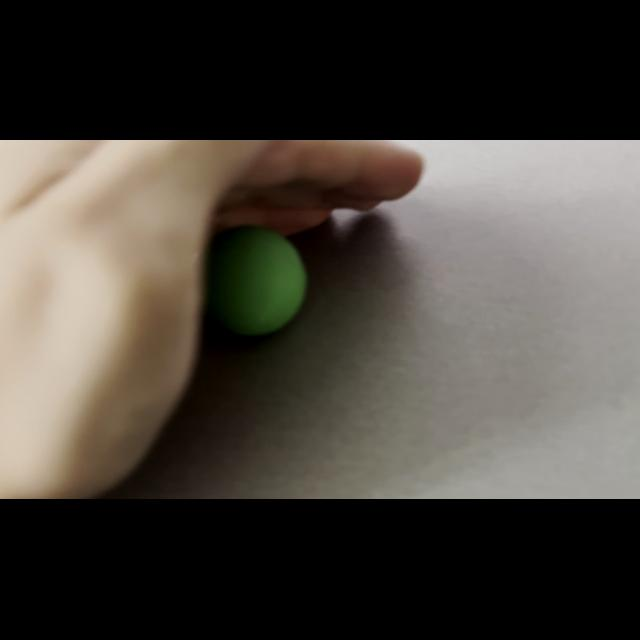objects: (191, 219, 313, 343)
